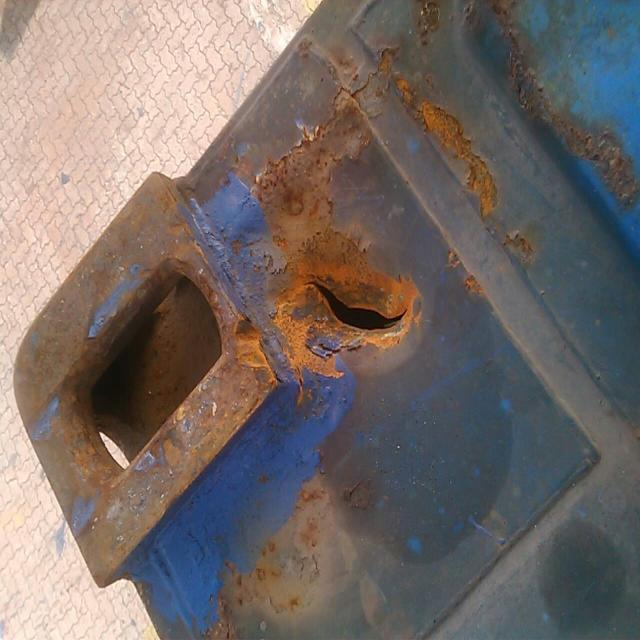hole: (289, 249, 424, 379)
